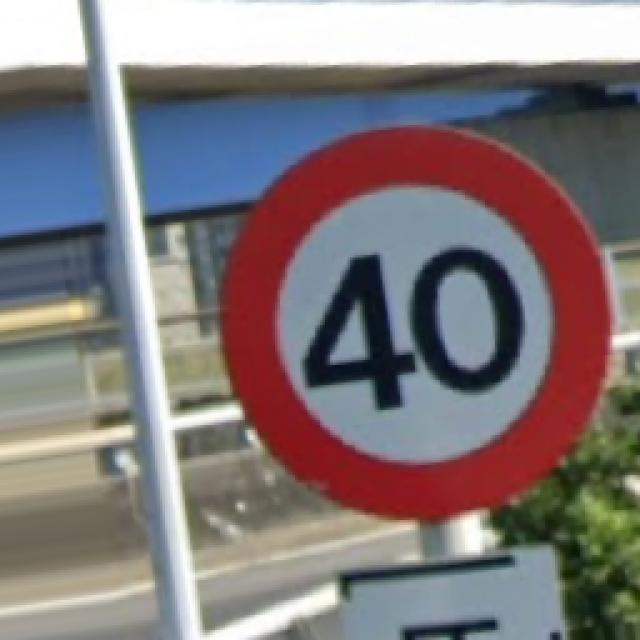Speed Limit -40-: (222, 125, 612, 518)
